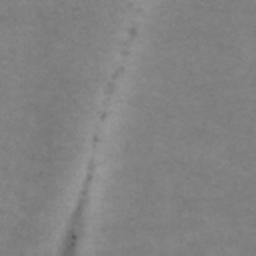Finishing roll printing: (99, 8, 143, 125), (61, 157, 99, 256), (91, 134, 100, 142)
